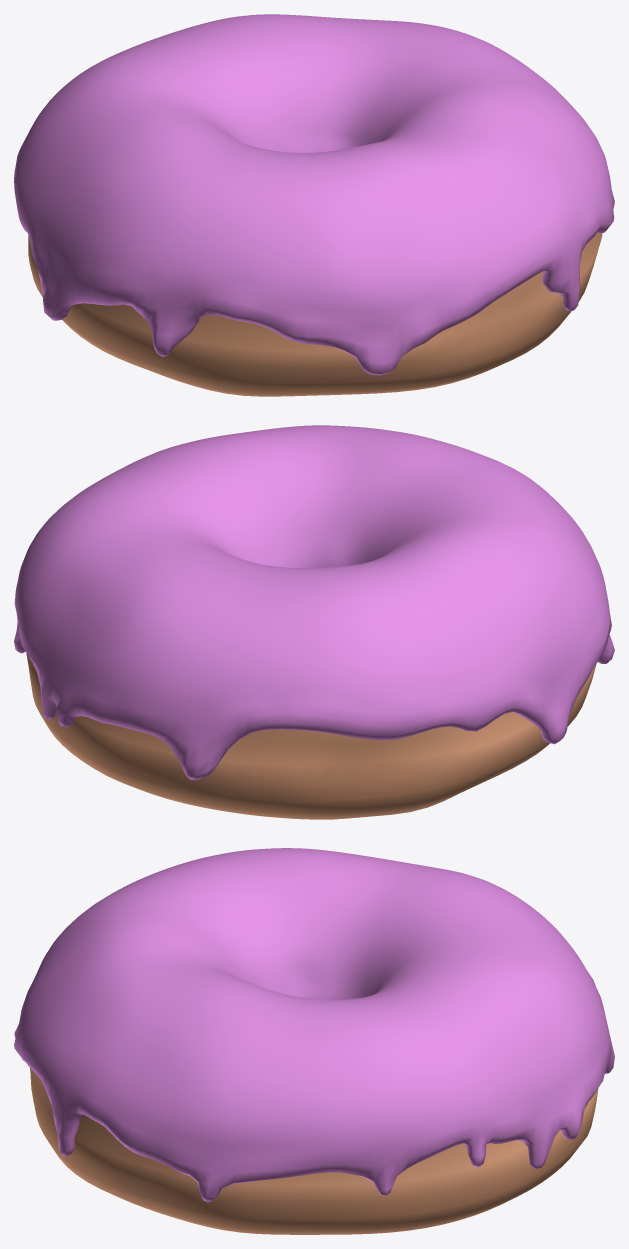
The model's file is donut.gltf.
The picture shows the model from 3 angles, top to bottom: view 1: azimuth 30°, elevation 25°; view 2: azimuth 150°, elevation 25°; view 3: azimuth 270°, elevation 25°; orthographic projection.
Visible parts, largest first — view 1: icing, donut; view 2: icing, donut; view 3: icing, donut.
Boxes of the visible parts, x1=… form: icing: x1=14, y1=14, x2=614, y2=375; donut: x1=28, y1=233, x2=602, y2=396; icing: x1=14, y1=425, x2=614, y2=780; donut: x1=26, y1=653, x2=596, y2=819; icing: x1=14, y1=848, x2=614, y2=1202; donut: x1=29, y1=1067, x2=598, y2=1234.
Size of what is drawn, in the model's own units: 0.0997 by 0.0429 by 0.1015.
